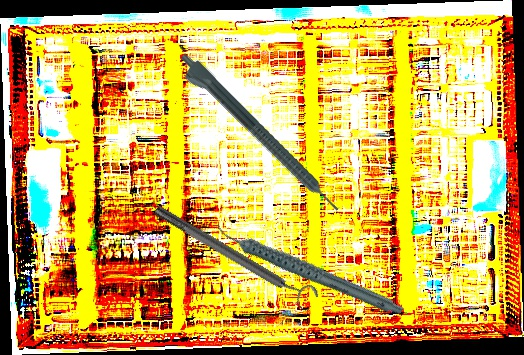Fixation Ring: (149, 195, 322, 316)
Handpiece: (213, 186, 406, 350), (170, 49, 344, 223)
